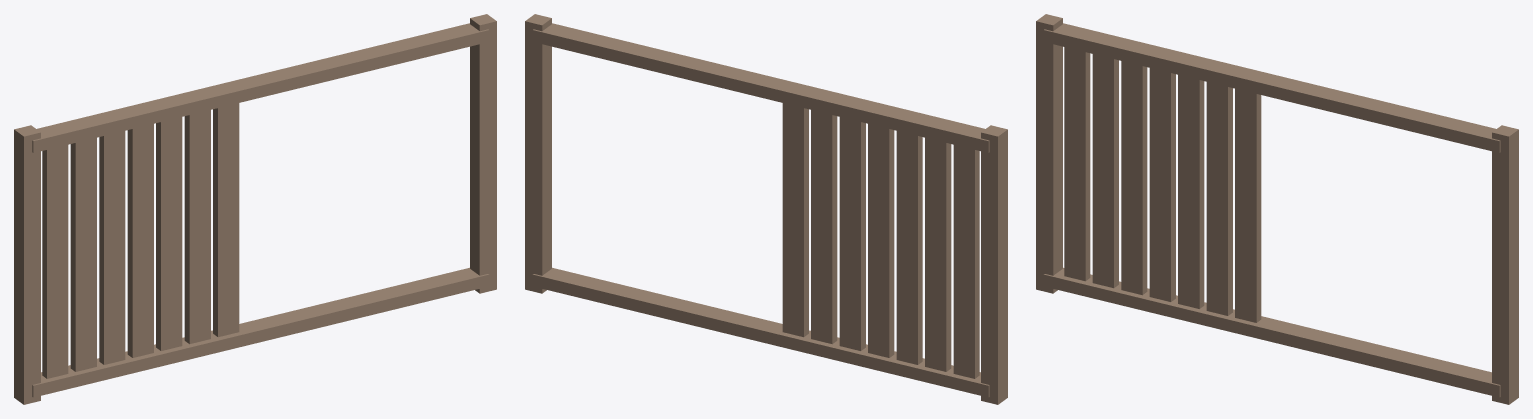
3 renders of one model, left to right at view 1: azimuth 30°, elevation 25°; view 2: azimuth 150°, elevation 25°; view 3: azimuth 330°, elevation 25°, orthographic.
Visible parts, largest first — view 1: Cornice_Superiore, Cornice_Inferiore, Palo_Sinistro, Palo_Destro, Listello_7, Listello_1, Listello_5, Listello_2, Listello_4, Listello_3, Listello_6; view 2: Cornice_Superiore, Cornice_Inferiore, Palo_Sinistro, Palo_Destro, Listello_7, Listello_1, Listello_5, Listello_2, Listello_4, Listello_3, Listello_6; view 3: Cornice_Superiore, Cornice_Inferiore, Palo_Destro, Palo_Sinistro, Listello_2, Listello_5, Listello_1, Listello_6, Listello_3, Listello_4, Listello_7.
Part boxes in pixels (left/top/right/bottom): Cornice_Superiore: left=32, top=23, right=489, bottom=152; Cornice_Inferiore: left=32, top=267, right=489, bottom=397; Palo_Sinistro: left=14, top=125, right=40, bottom=404; Palo_Destro: left=470, top=14, right=496, bottom=293; Listello_7: left=213, top=103, right=239, bottom=337; Listello_1: left=42, top=145, right=68, bottom=378; Listello_5: left=156, top=117, right=182, bottom=350; Listello_2: left=70, top=137, right=96, bottom=371; Listello_4: left=127, top=124, right=153, bottom=357; Listello_3: left=99, top=131, right=125, bottom=364; Listello_6: left=184, top=110, right=210, bottom=344; Cornice_Superiore: left=532, top=23, right=989, bottom=152; Cornice_Inferiore: left=532, top=267, right=989, bottom=397; Palo_Sinistro: left=981, top=125, right=1007, bottom=404; Palo_Destro: left=525, top=14, right=551, bottom=293; Listello_7: left=782, top=103, right=808, bottom=337; Listello_1: left=953, top=145, right=979, bottom=378; Listello_5: left=839, top=117, right=865, bottom=350; Listello_2: left=925, top=137, right=951, bottom=371; Listello_4: left=868, top=124, right=894, bottom=357; Listello_3: left=896, top=131, right=922, bottom=364; Listello_6: left=811, top=110, right=837, bottom=344; Cornice_Superiore: left=1043, top=23, right=1500, bottom=152; Cornice_Inferiore: left=1043, top=267, right=1500, bottom=397; Palo_Destro: left=1492, top=125, right=1518, bottom=404; Palo_Sinistro: left=1036, top=14, right=1062, bottom=293; Listello_2: left=1092, top=54, right=1118, bottom=288; Listello_5: left=1178, top=74, right=1204, bottom=308; Listello_1: left=1064, top=47, right=1090, bottom=281; Listello_6: left=1206, top=82, right=1232, bottom=315; Listello_3: left=1121, top=61, right=1147, bottom=295; Listello_4: left=1149, top=68, right=1175, bottom=301; Listello_7: left=1235, top=88, right=1261, bottom=322.
Size of the model in its own units: 3.32 by 1.8 by 0.144.
